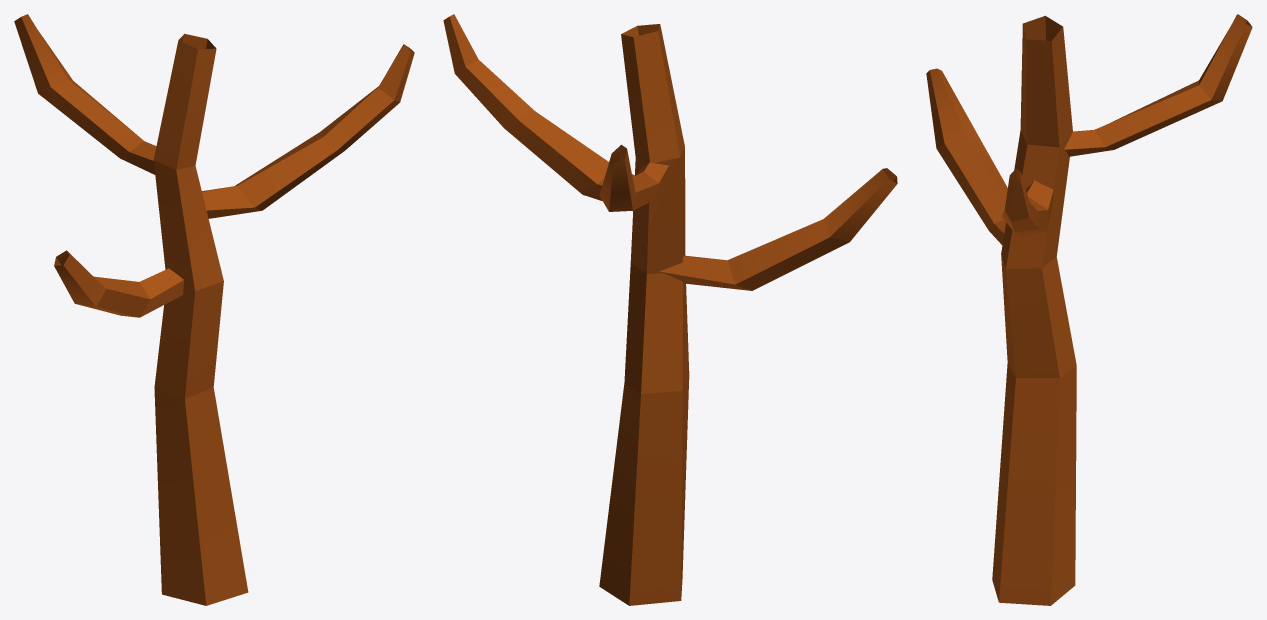
File: TreeTrunk_05.fbx
3 renders of one model, left to right at view 1: azimuth 30°, elevation 25°; view 2: azimuth 150°, elevation 25°; view 3: azimuth 270°, elevation 25°, orthographic. The views are drawn at different scales.
Visible parts, largest first — view 1: TreeTrunk_05; view 2: TreeTrunk_05; view 3: TreeTrunk_05.
Part boxes in pixels (x1=…): TreeTrunk_05: x1=14, y1=14, x2=414, y2=605; TreeTrunk_05: x1=443, y1=14, x2=897, y2=605; TreeTrunk_05: x1=926, y1=14, x2=1252, y2=605.
Bounding box in the file's own units: 179 × 236 × 124.
